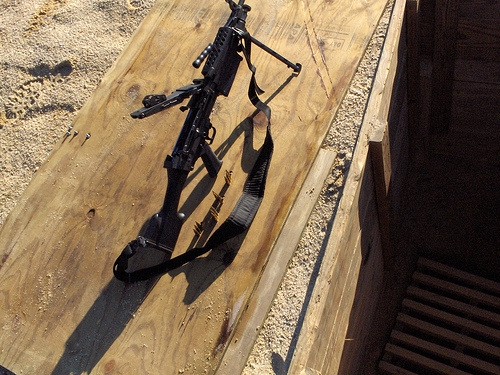rifle: (112, 12, 280, 269)
